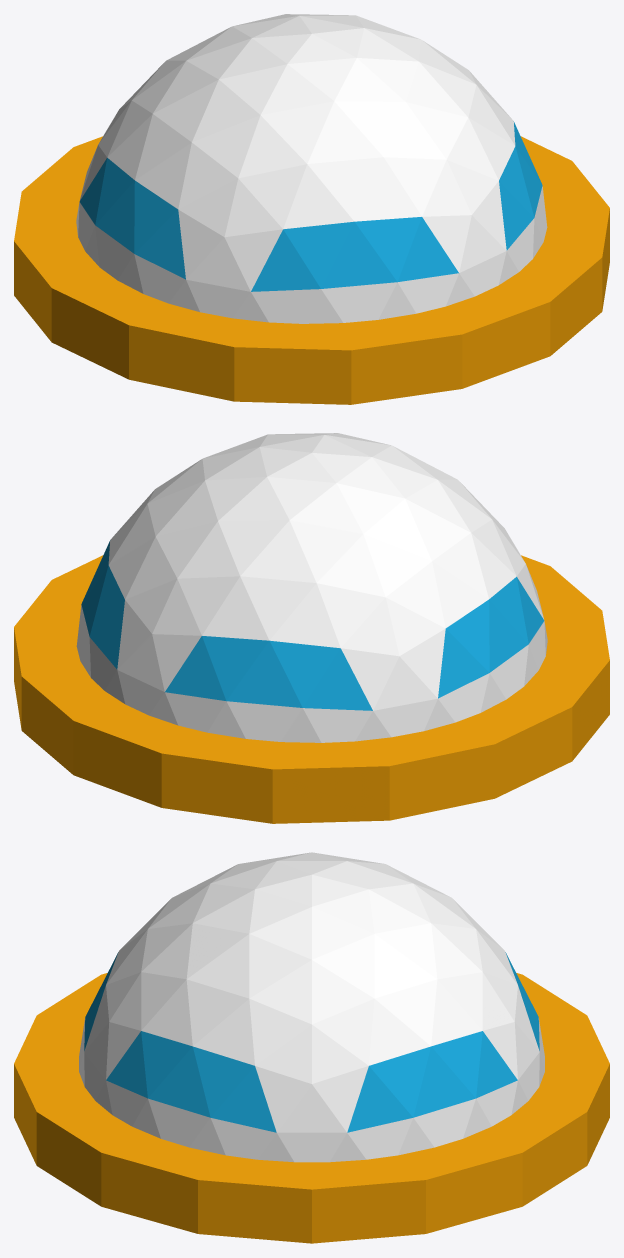
The model's file is Space_House_Lvl_1.fbx.
3 views of the same model, one above another, from view 1: azimuth 30°, elevation 25°; view 2: azimuth 150°, elevation 25°; view 3: azimuth 270°, elevation 25° (orthographic).
Parts seen in each view (by area): view 1: Icosphere; view 2: Icosphere; view 3: Icosphere.
Boxes of the visible parts, x1=… form: Icosphere: x1=14, y1=14, x2=609, y2=404; Icosphere: x1=14, y1=433, x2=609, y2=823; Icosphere: x1=14, y1=852, x2=609, y2=1243.
Size of the model in its own units: 100 by 45 by 100.
